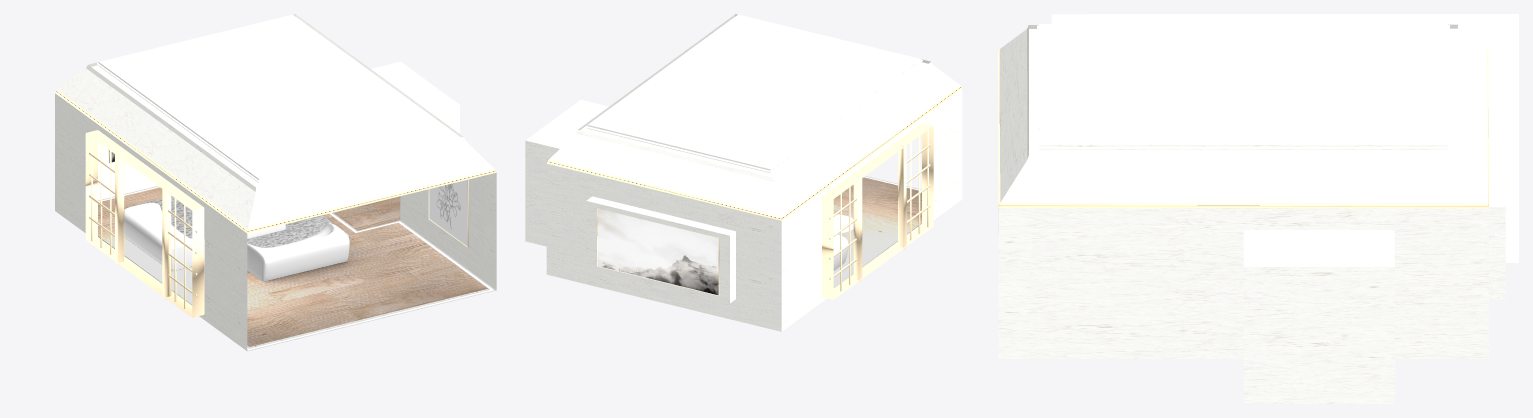
File: home1.glb
The picture shows the model from 3 angles, left to right: view 1: azimuth 30°, elevation 25°; view 2: azimuth 150°, elevation 25°; view 3: azimuth 270°, elevation 25°; orthographic projection. The views are drawn at different scales.
Parts seen in each view (by area): view 1: Modern Living Room_Walls_0, Modern Living Room_Planks_0, Modern Living Room_Lights_0, Modern Living Room_Carpet_0, Modern Living Room_Painting_0, Modern Living Room_Floor_0; view 2: Modern Living Room_Walls_0, Modern Living Room_Lights_0, Modern Living Room_TVScreen_0, Modern Living Room_Planks_0; view 3: Modern Living Room_Walls_0, Modern Living Room_Backdrop_0, Modern Living Room_Lights_0.
Part boxes in pixels (box(x1,y1,x2,y2)): Modern Living Room_Walls_0: box(55, 14, 496, 350); Modern Living Room_Planks_0: box(98, 187, 487, 346); Modern Living Room_Lights_0: box(55, 63, 496, 350); Modern Living Room_Carpet_0: box(136, 196, 351, 247); Modern Living Room_Painting_0: box(429, 180, 467, 246); Modern Living Room_Floor_0: box(98, 186, 496, 351); Modern Living Room_Walls_0: box(525, 14, 962, 331); Modern Living Room_Lights_0: box(547, 60, 962, 299); Modern Living Room_TVScreen_0: box(597, 209, 718, 295); Modern Living Room_Planks_0: box(833, 177, 921, 287); Modern Living Room_Walls_0: box(998, 24, 1505, 403); Modern Living Room_Backdrop_0: box(1051, 14, 1518, 262); Modern Living Room_Lights_0: box(998, 49, 1505, 208).
Size of the model in its own units: 33.02 by 20.06 by 34.49.
15 materials, 14 textured.
